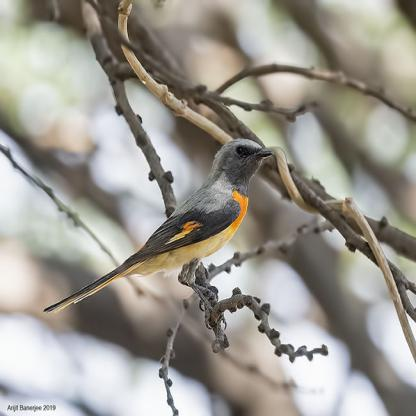Burung: (42, 139, 272, 311)
